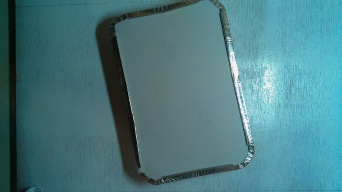f: (97, 1, 260, 188)
